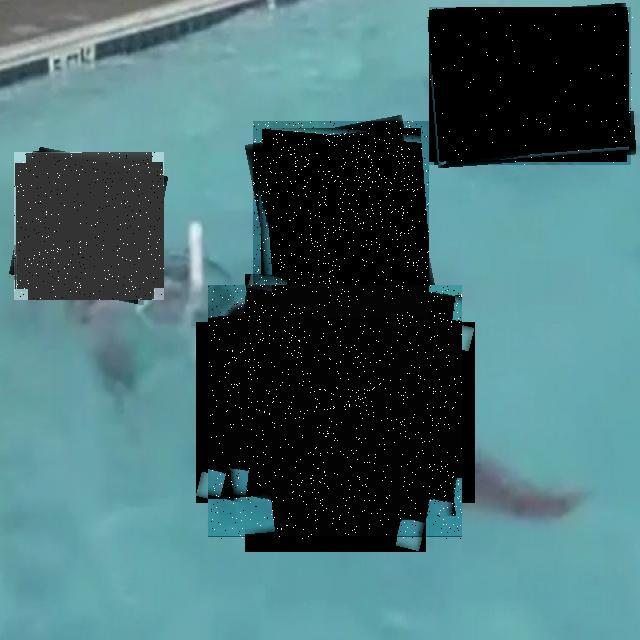swimming: (208, 286, 462, 540), (253, 121, 429, 322), (430, 7, 634, 165), (14, 152, 164, 300)
